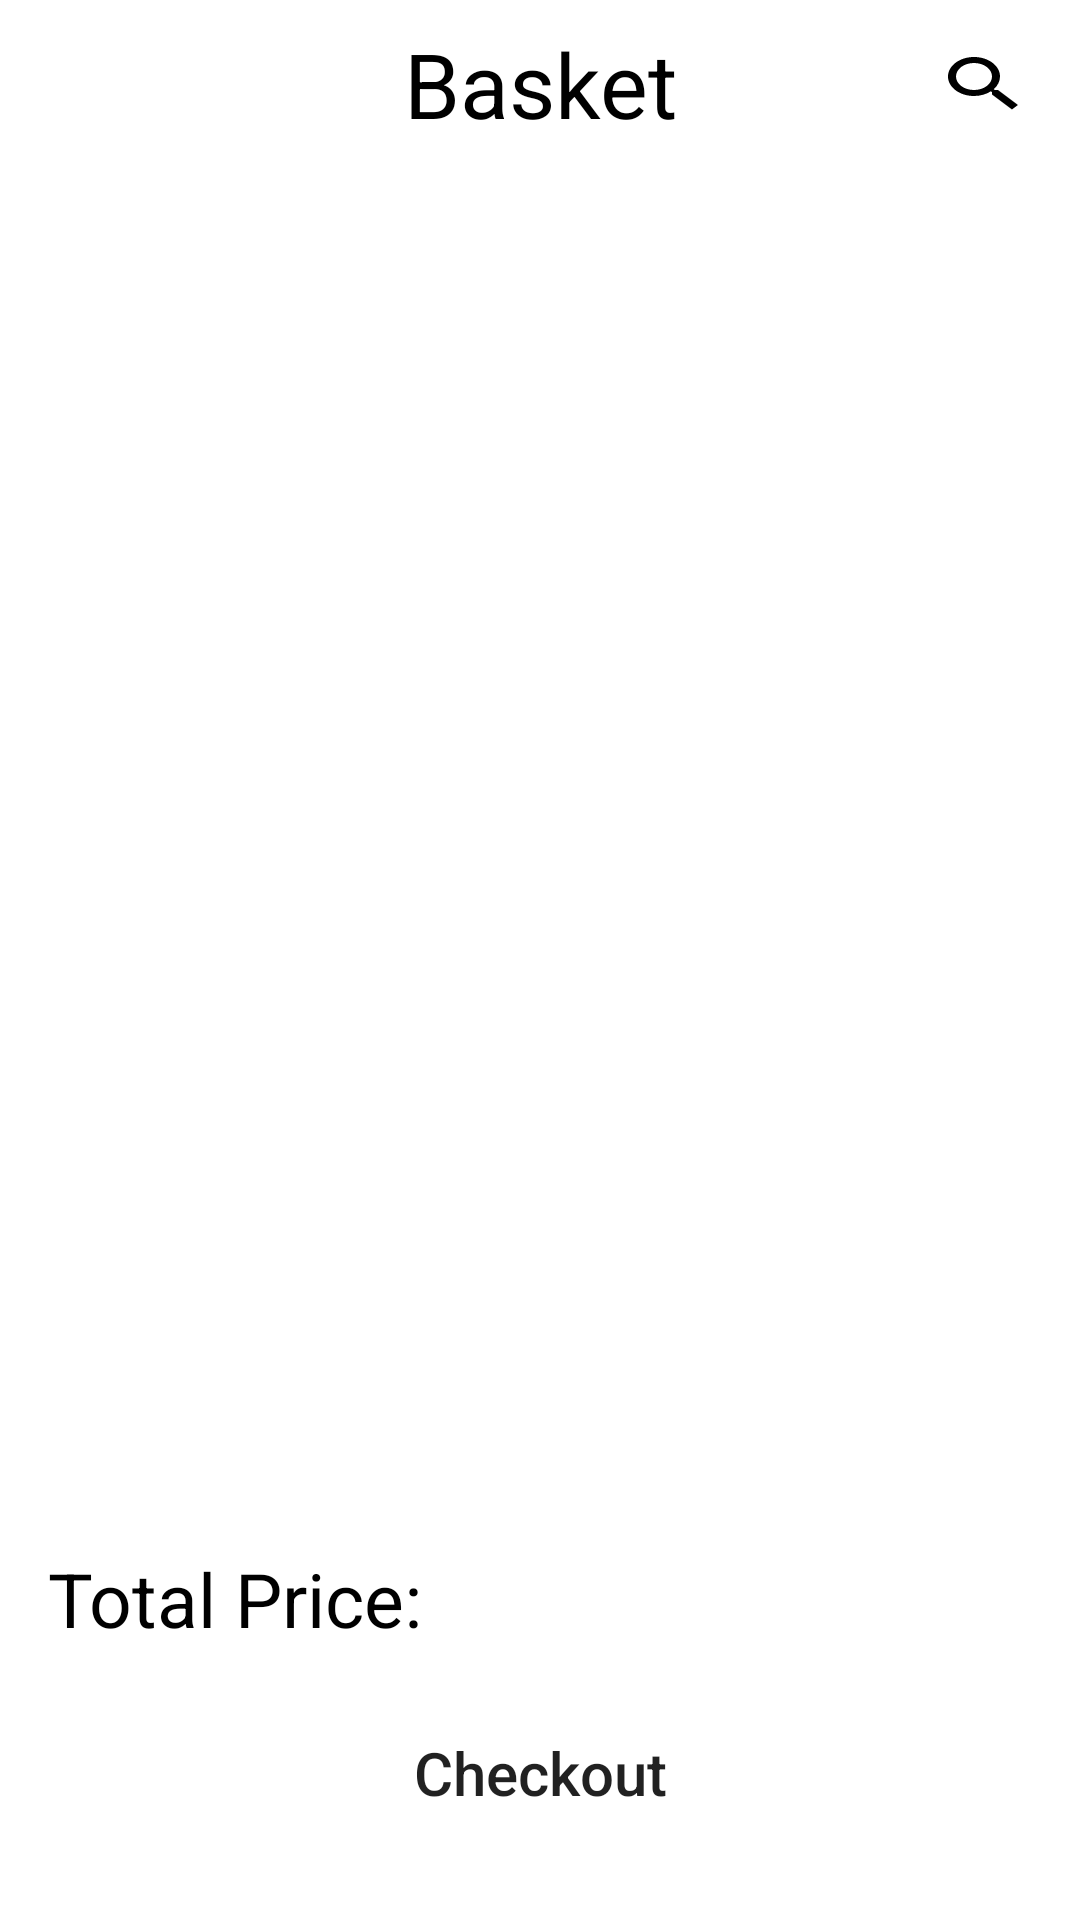

Named icons in this screenshot (1080 × 1920) and their bounding boxes, [left=x1, top=y1, right=x2, bottom=y2]:
search: [left=948, top=57, right=1018, bottom=110]
